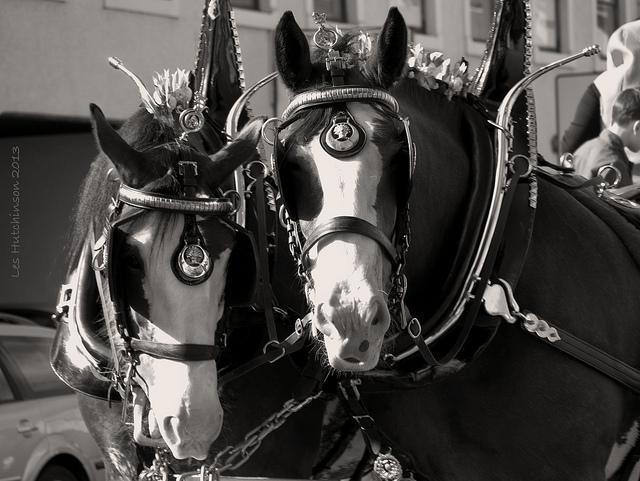car: (2, 320, 109, 476)
